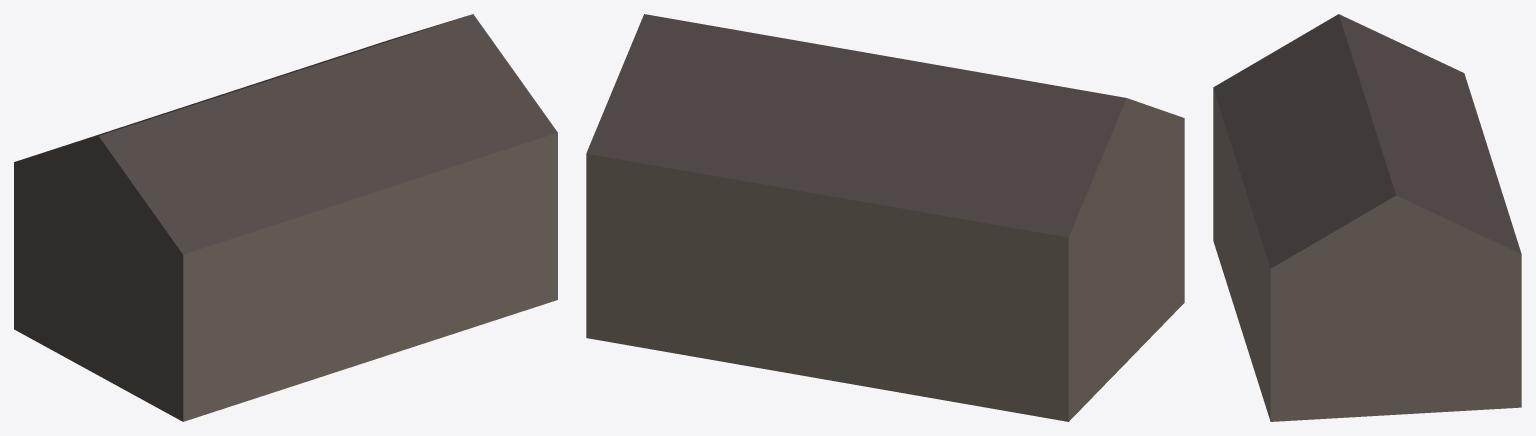
3 views of the same model, side by side, from view 1: azimuth 30°, elevation 25°; view 2: azimuth 150°, elevation 25°; view 3: azimuth 270°, elevation 25° (orthographic). The views are drawn at different scales.
Parts seen in each view (by area): view 1: HP-w859467760; view 2: HP-w859467760; view 3: HP-w859467760.
Boxes of the visible parts, x1=… form: HP-w859467760: x1=14, y1=14, x2=557, y2=421; HP-w859467760: x1=586, y1=14, x2=1184, y2=421; HP-w859467760: x1=1213, y1=14, x2=1521, y2=421.
Bounding box in the file's own units: 24.68 × 12.9 × 16.44.
